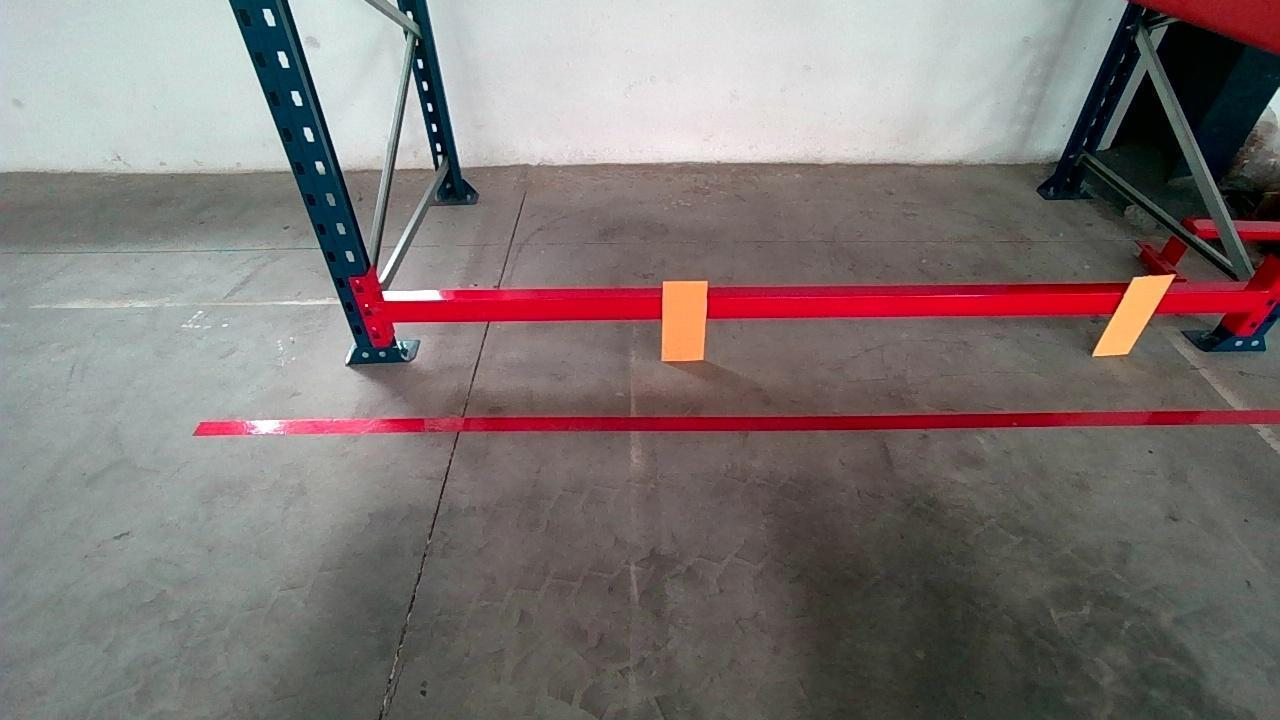h_rack: (384, 275, 1255, 326)
orange_strip: (1092, 275, 1174, 353), (661, 279, 708, 359)
red_line: (203, 402, 1270, 452)
